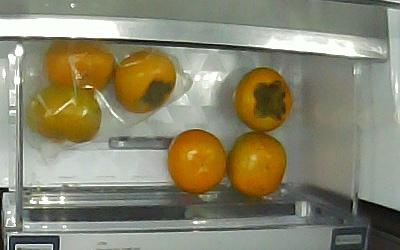persimmon: (168, 128, 229, 195), (233, 68, 295, 133), (228, 131, 288, 197)
persimmon_vinyl: (25, 87, 102, 144), (116, 49, 177, 113), (45, 42, 114, 91)
